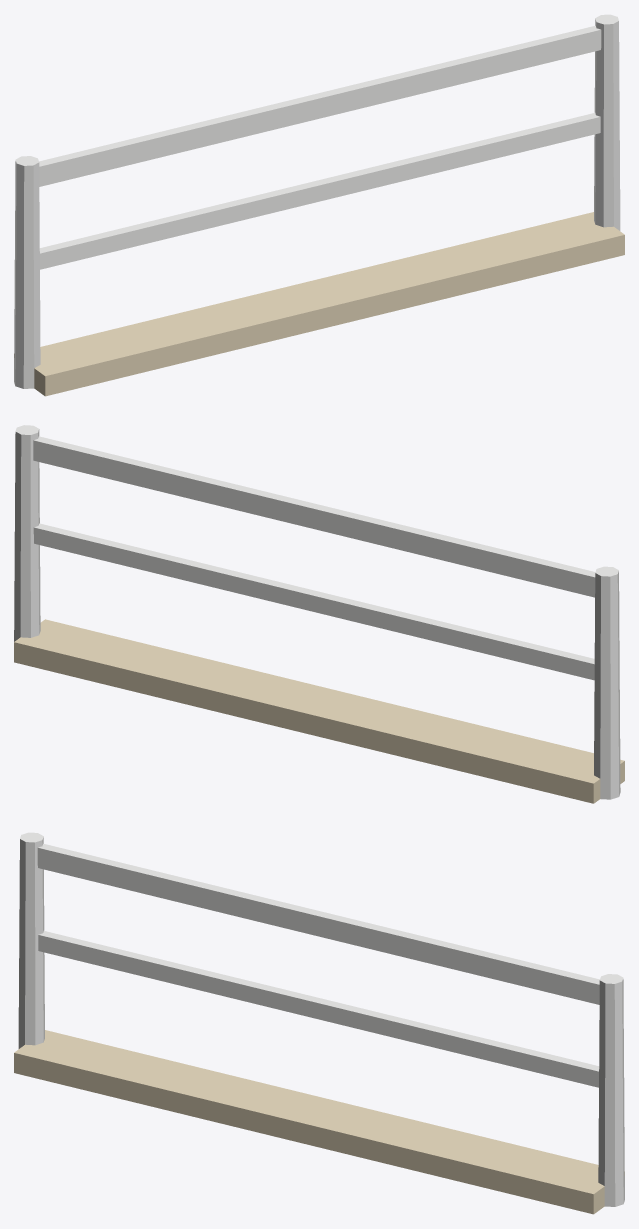
Rendered from arena-rail.glb.
3 renders of one model, top to bottom at view 1: azimuth 30°, elevation 25°; view 2: azimuth 150°, elevation 25°; view 3: azimuth 330°, elevation 25°, orthographic.
Parts seen in each view (by area): view 1: arena-rail; view 2: arena-rail; view 3: arena-rail.
Boxes of the visible parts, x1,y1,x2,y2 form: arena-rail: (14, 14, 624, 396); arena-rail: (14, 425, 624, 803); arena-rail: (14, 832, 624, 1214).
Bounding box in the file's own units: 3.12 × 1.1 × 0.2798.
